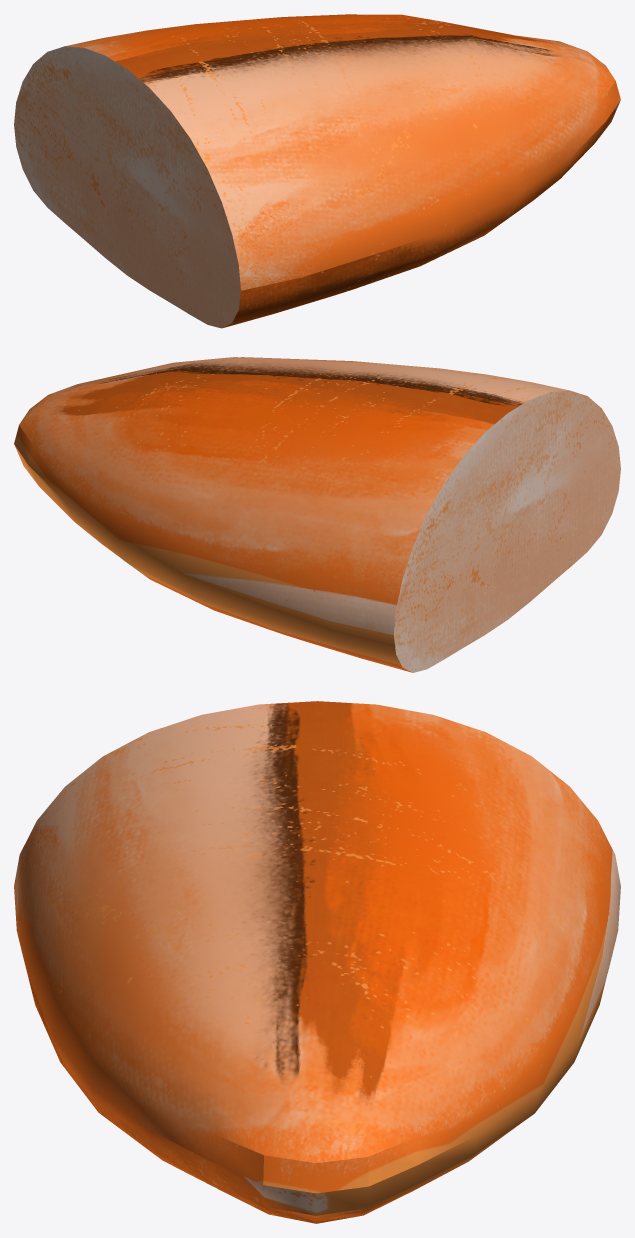
Rendered from ekmek_yarim.fbx.
3 renders of one model, top to bottom at view 1: azimuth 30°, elevation 25°; view 2: azimuth 150°, elevation 25°; view 3: azimuth 270°, elevation 25°, orthographic. The views are drawn at different scales.
Visible parts, largest first — view 1: Sphere.002; view 2: Sphere.002; view 3: Sphere.002.
Part boxes in pixels (<box>): Sphere.002: <box>14,14,620,328</box>; Sphere.002: <box>14,357,620,672</box>; Sphere.002: <box>14,701,620,1223</box>.
Bounding box in the file's own units: 145 × 60.24 × 118.
